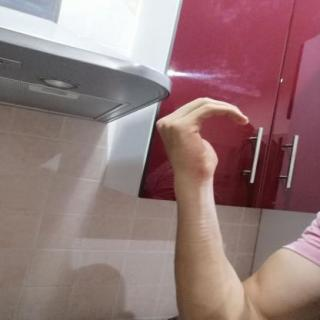HAA: (140, 89, 258, 181)
